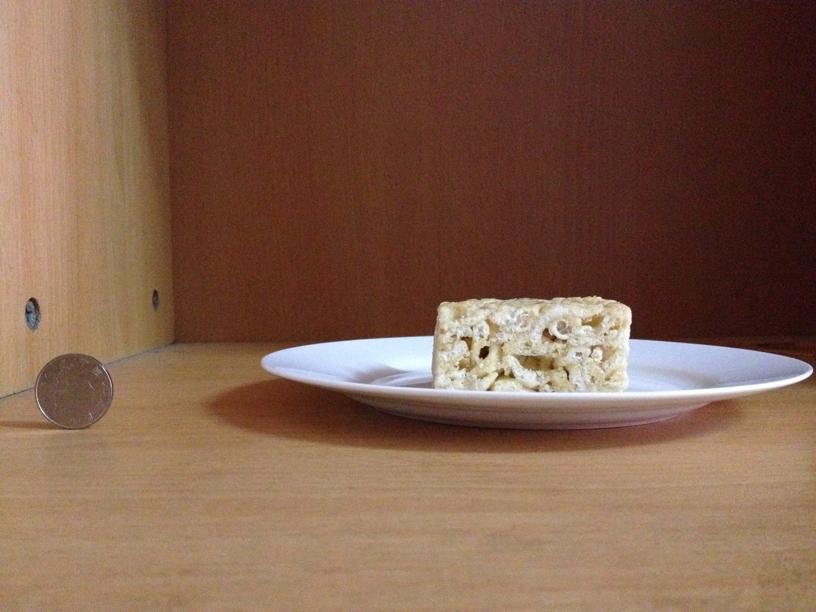coin: (36, 354, 114, 427)
sachima: (423, 293, 633, 391)
